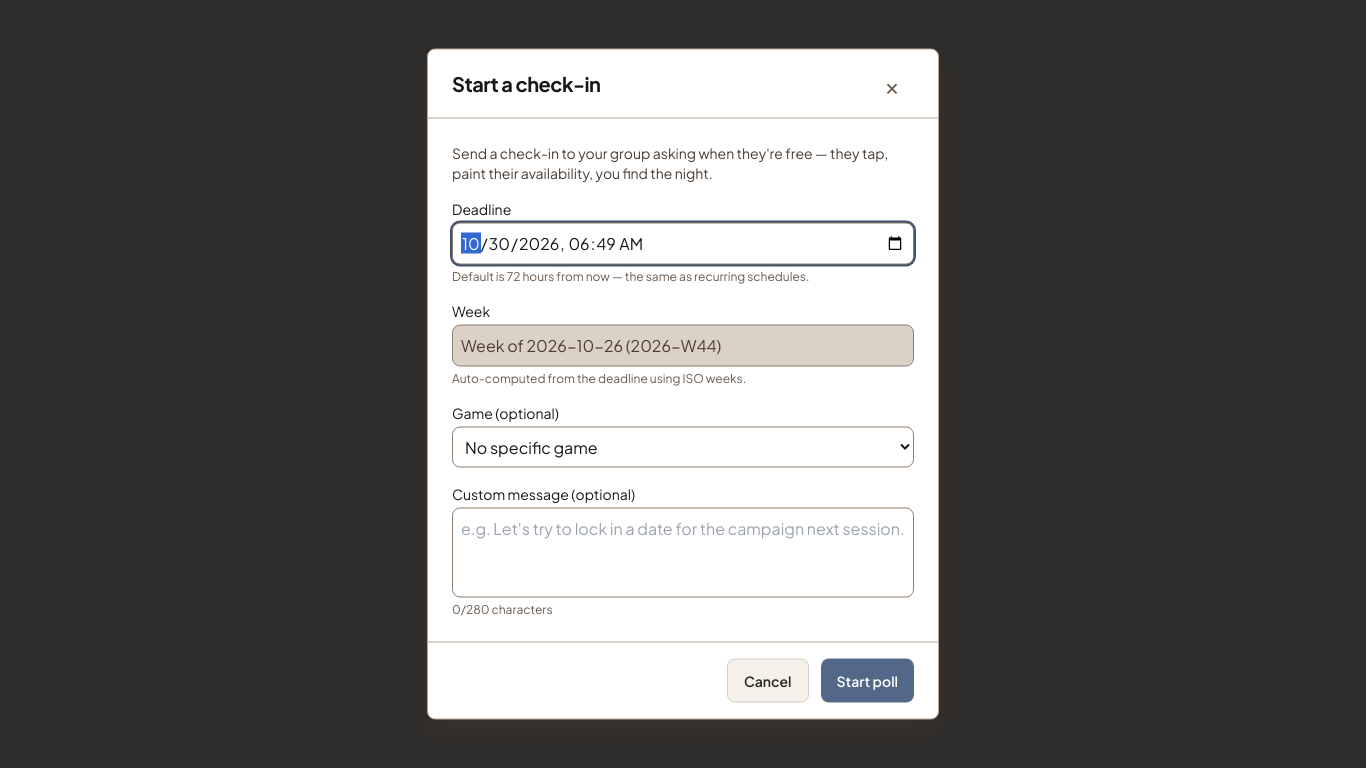
Scenario: StartPollModal — error copy is keyed on the status, not the prose (88.6-22) › shows copy row R1 for a code-less failure, never the register line that says to refresh (S1, D-32 R1)
Click the button "Start poll".
click(867, 680)  # box [820, 658, 914, 702]
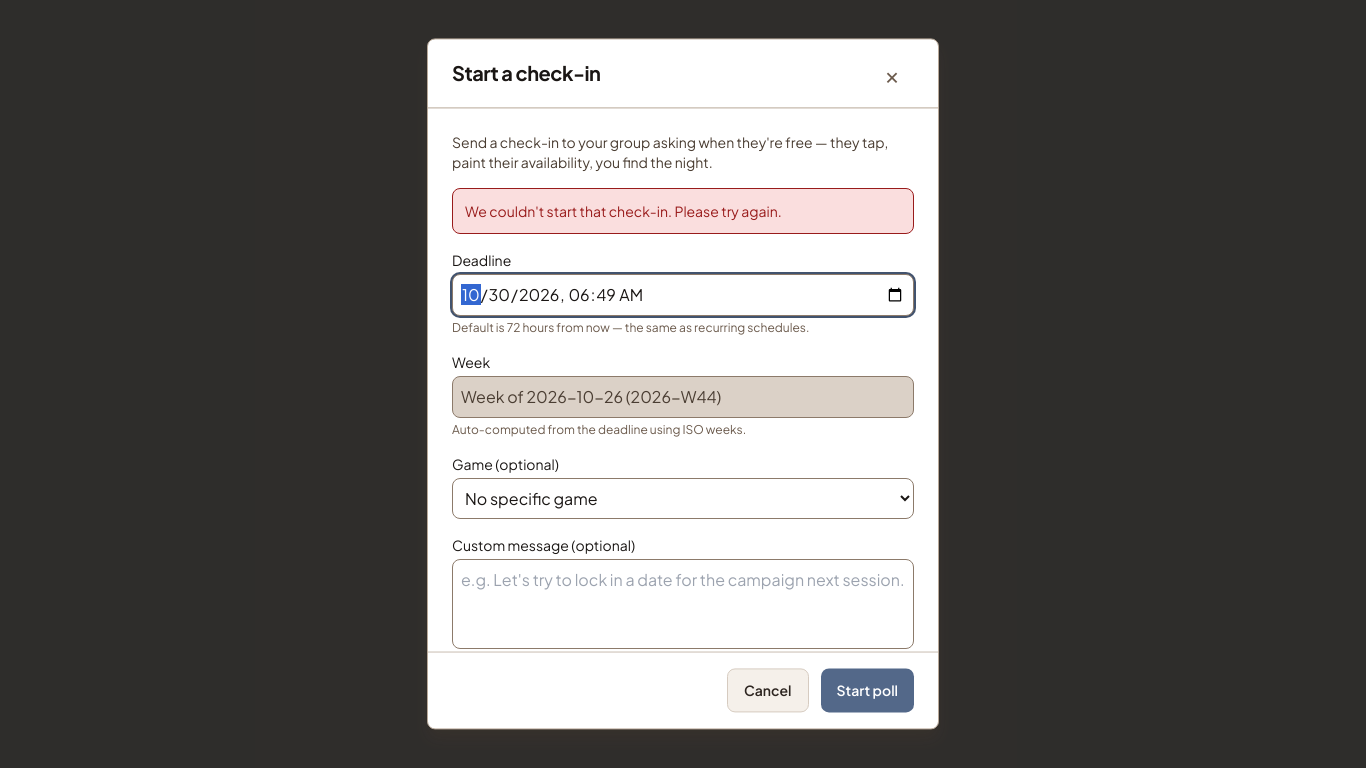
Check: the text "We couldn't start that check-in. Please try again." is shown, box [465, 202, 782, 220]
